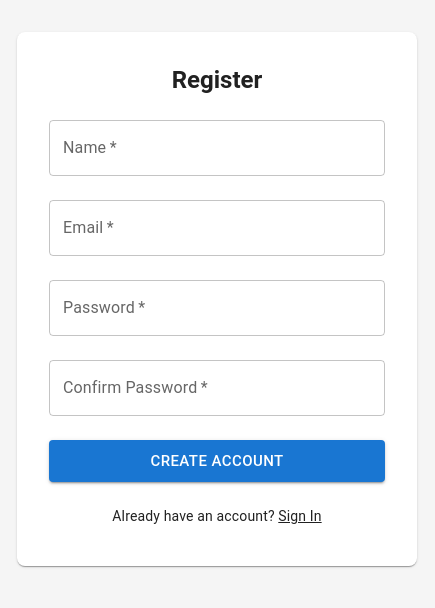
Register flow › should show error for short password
Type "Test User" into the field named "name" at {"x": 217, "y": 148}, box [49,120,385,176]
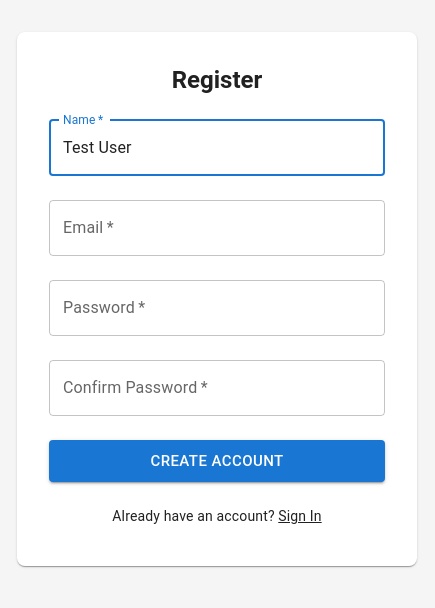
Type "test@example.com" into the field named "email" at {"x": 217, "y": 228}, box [49,200,385,256]
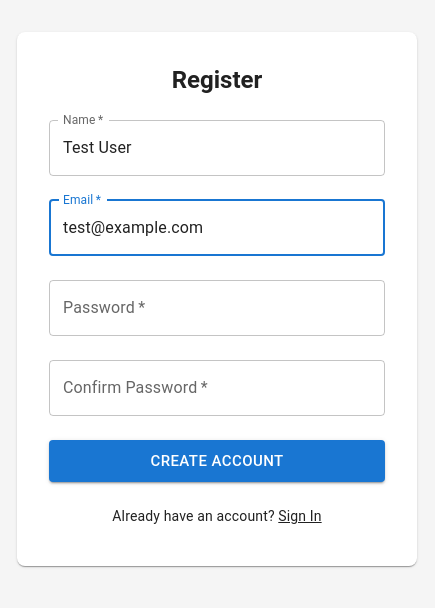
Type "123" into the password field named "password" at {"x": 217, "y": 308}, box [49,280,385,336]
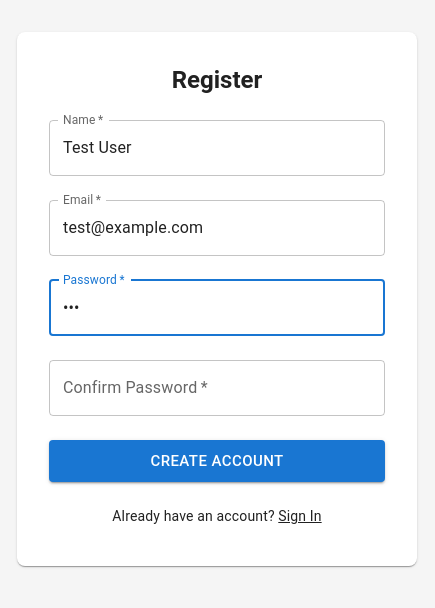
Type "123" into the password field named "confirmPassword" at {"x": 217, "y": 388}, box [49,360,385,416]
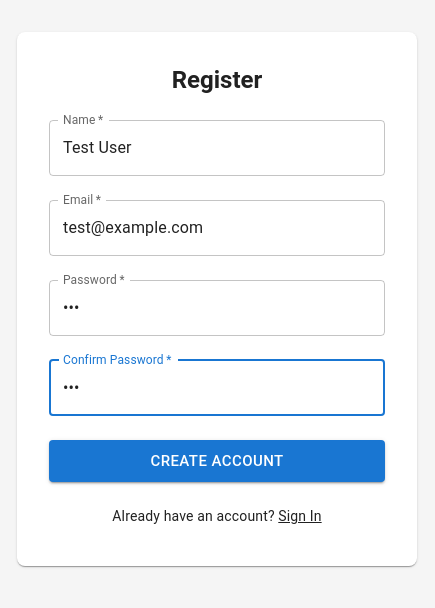
Submit the form, box [49,120,385,526]
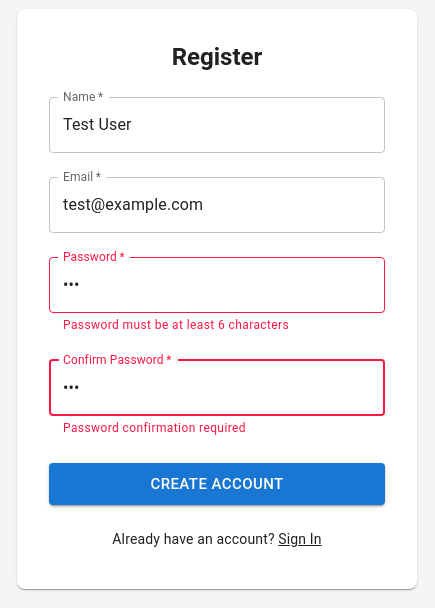
Expected: the text "Password must be at least 6 characters" is shown, [63,318,289,332]
